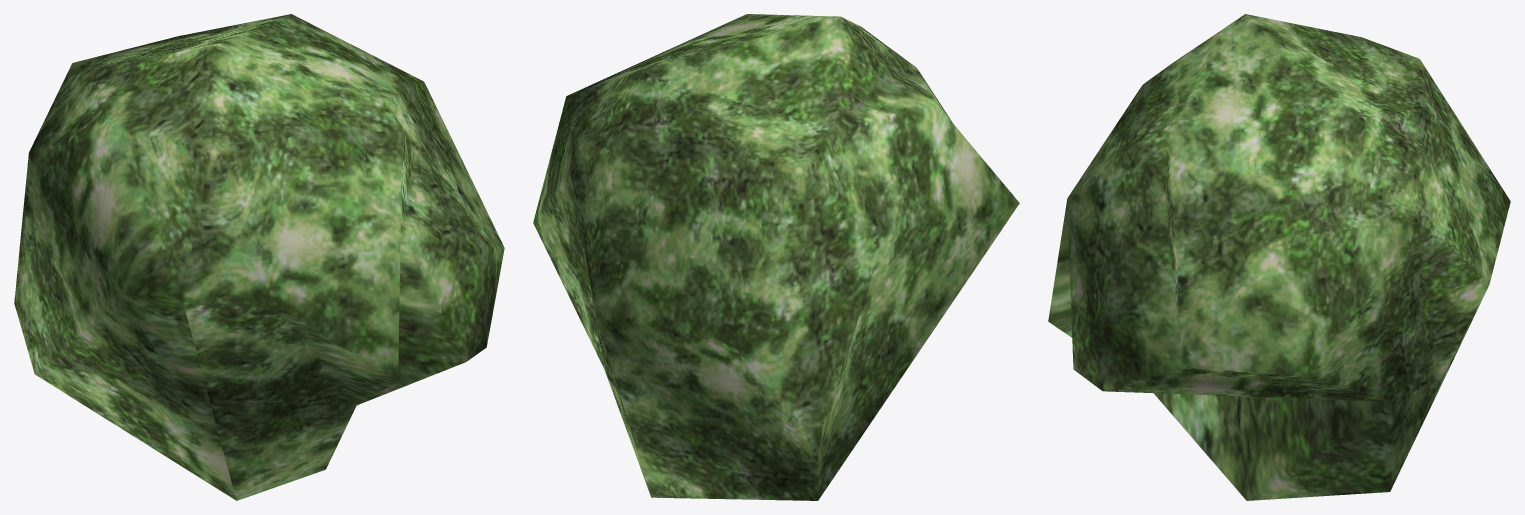
File: asteroid_acid_medium_s01_l3.fbx
The picture shows the model from 3 angles, left to right: view 1: azimuth 30°, elevation 25°; view 2: azimuth 150°, elevation 25°; view 3: azimuth 270°, elevation 25°; orthographic projection. The views are drawn at different scales.
Visible parts, largest first — view 1: mesh_node; view 2: mesh_node; view 3: mesh_node.
Part boxes in pixels (x1,y1,x2,y2): mesh_node: (14,14,504,500); mesh_node: (533,14,1019,500); mesh_node: (1048,14,1510,500).
Bounding box in the file's own units: 64.41 × 71.04 × 66.9.
1 material, 1 textured.
